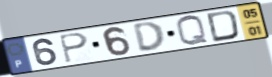6: (101, 25, 132, 58), (31, 37, 60, 67)
D: (206, 9, 242, 44), (131, 20, 167, 53)
P: (57, 32, 91, 65)
Q: (174, 14, 211, 47)
